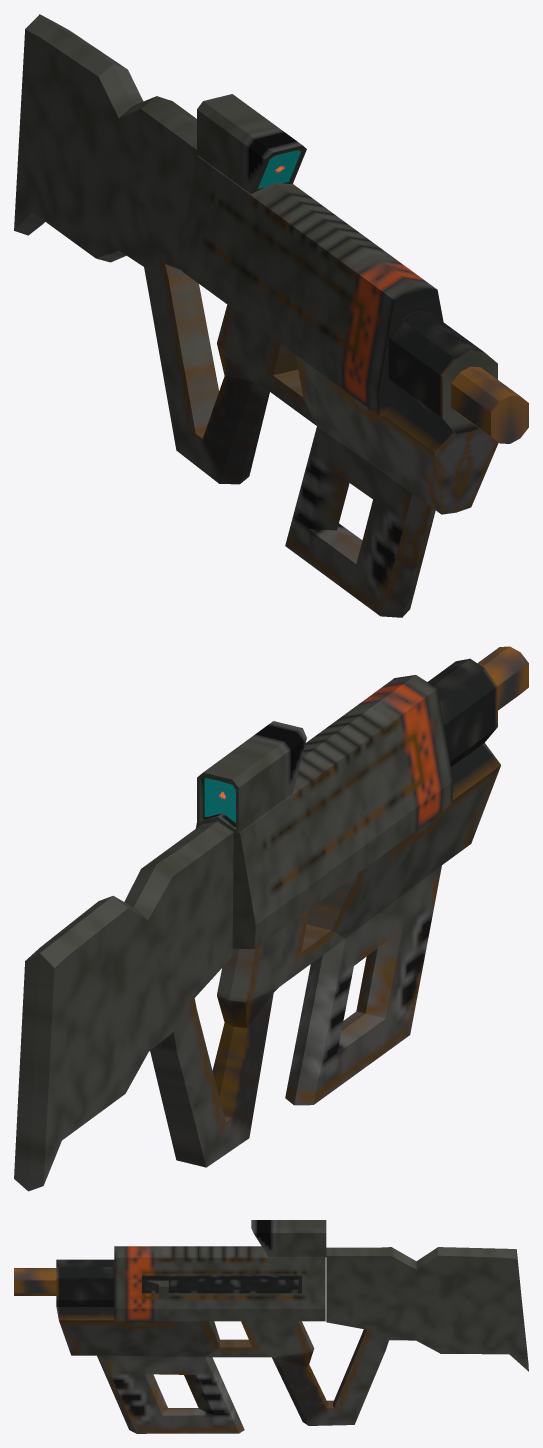
Rendered from PlayerSmg_v2.gltf.
3 views of the same model, one above another, from view 1: azimuth 30°, elevation 25°; view 2: azimuth 150°, elevation 25°; view 3: azimuth 270°, elevation 25° (orthographic). The views are drawn at different scales.
Visible parts, largest first — view 1: gun; view 2: gun; view 3: gun, hammer_path, hammer.
Boxes of the visible parts, x1,y1,x2,y2 form: gun: (14,14,528,617); gun: (14,646,528,1191); gun: (14,1220,528,1433); hammer_path: (142,1275,301,1293); hammer: (146,1280,168,1298).
Size of the model in its own units: 0.5839 by 2.36 by 5.35.
Materials: 1 (1 with a texture image).
